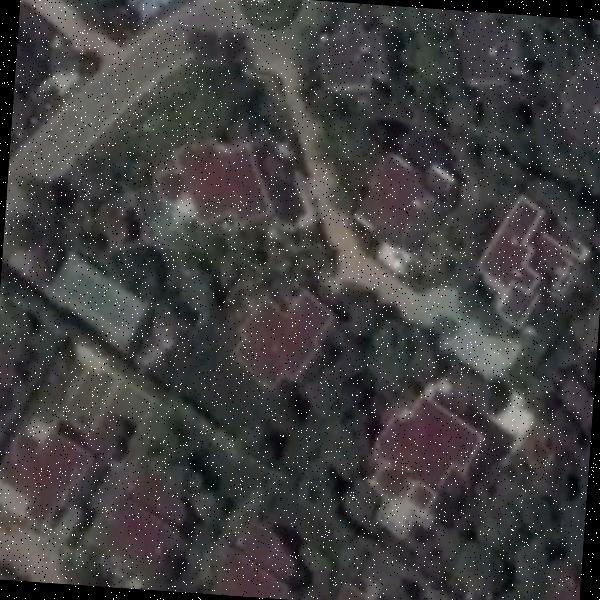Buildings: (1, 414, 121, 545), (473, 214, 594, 328), (372, 400, 482, 514), (354, 158, 464, 254), (223, 291, 331, 388), (103, 482, 198, 582), (46, 258, 140, 348), (170, 147, 266, 232), (224, 533, 314, 600), (317, 17, 382, 96), (464, 18, 532, 88), (565, 63, 600, 143)
